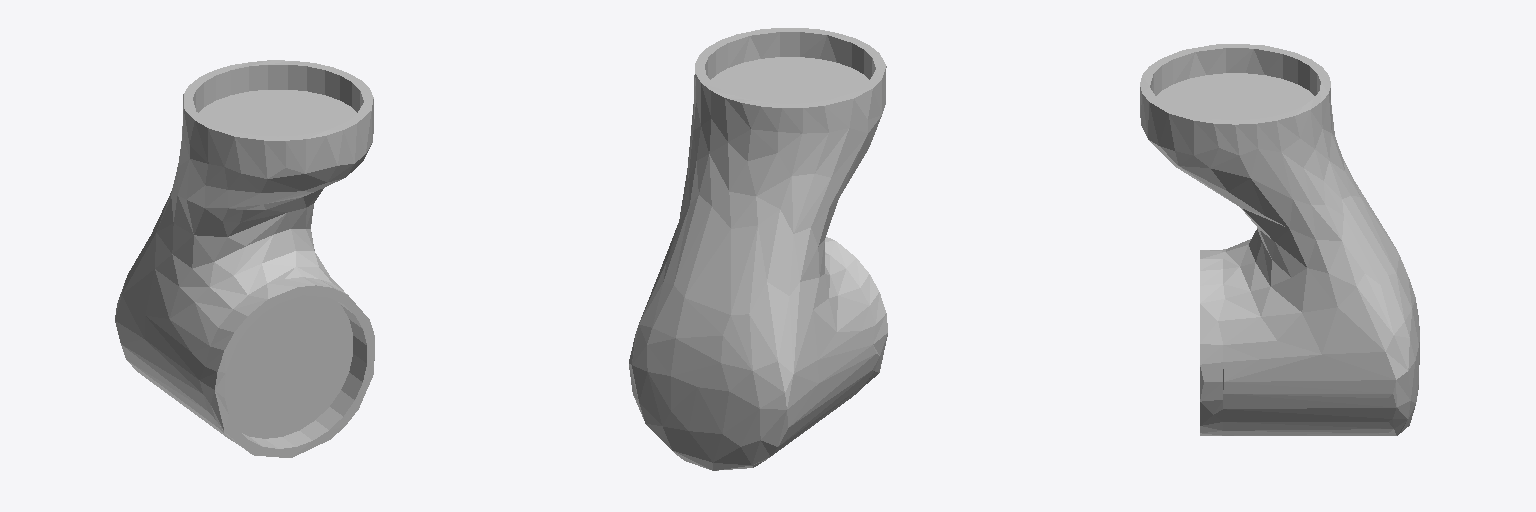
Rendered from dual_rm_75b_description_l_link3_visuals_l_link3_mesh.obj.
The picture shows the model from 3 angles: view 1: azimuth 30°, elevation 25°; view 2: azimuth 150°, elevation 25°; view 3: azimuth 270°, elevation 25°; orthographic projection.
Size of the model in its own units: 0.0697 by 0.1376 by 0.1017.